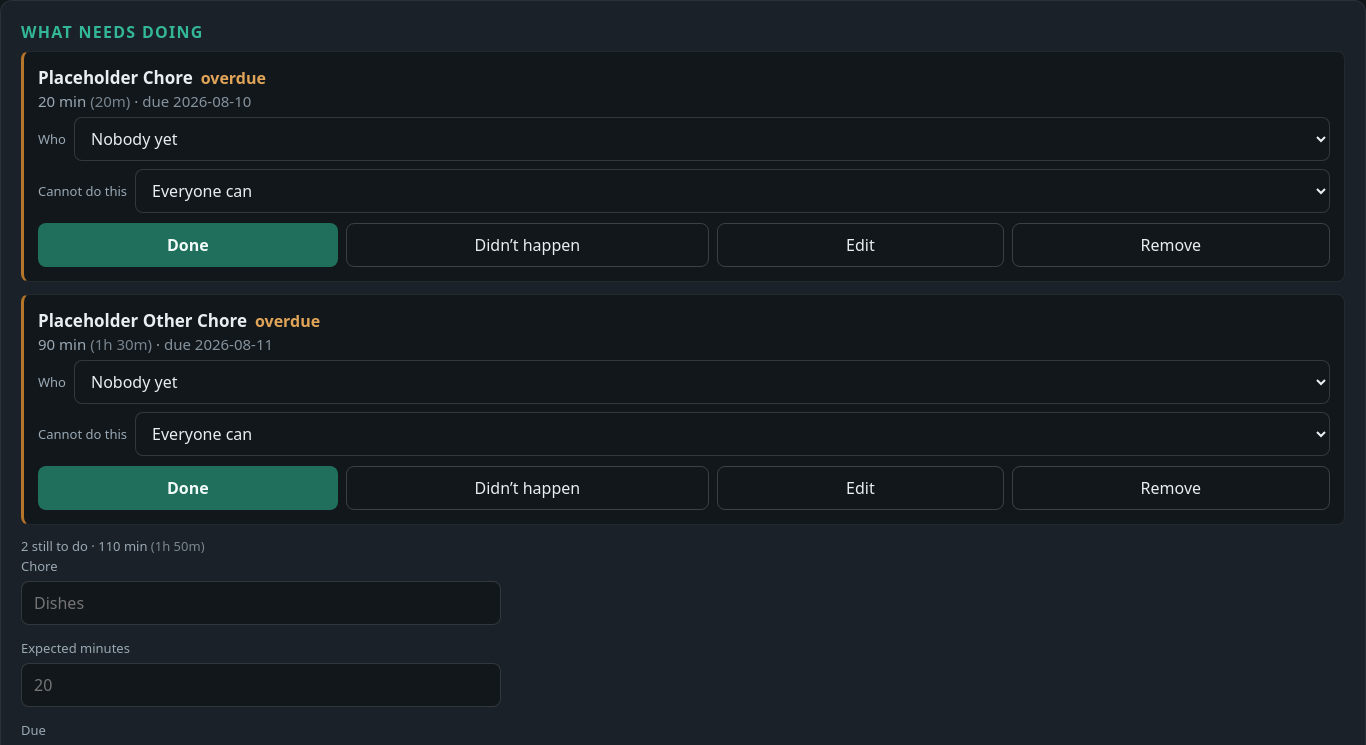
Test: AC 6 — editing and removing go through the handler › applies the same refusal in the editor as in the add form
The image size is (1366, 745).
Click the button with aria-label "edit placeholder chore".
click(860, 245)  # box [717,223,1004,267]
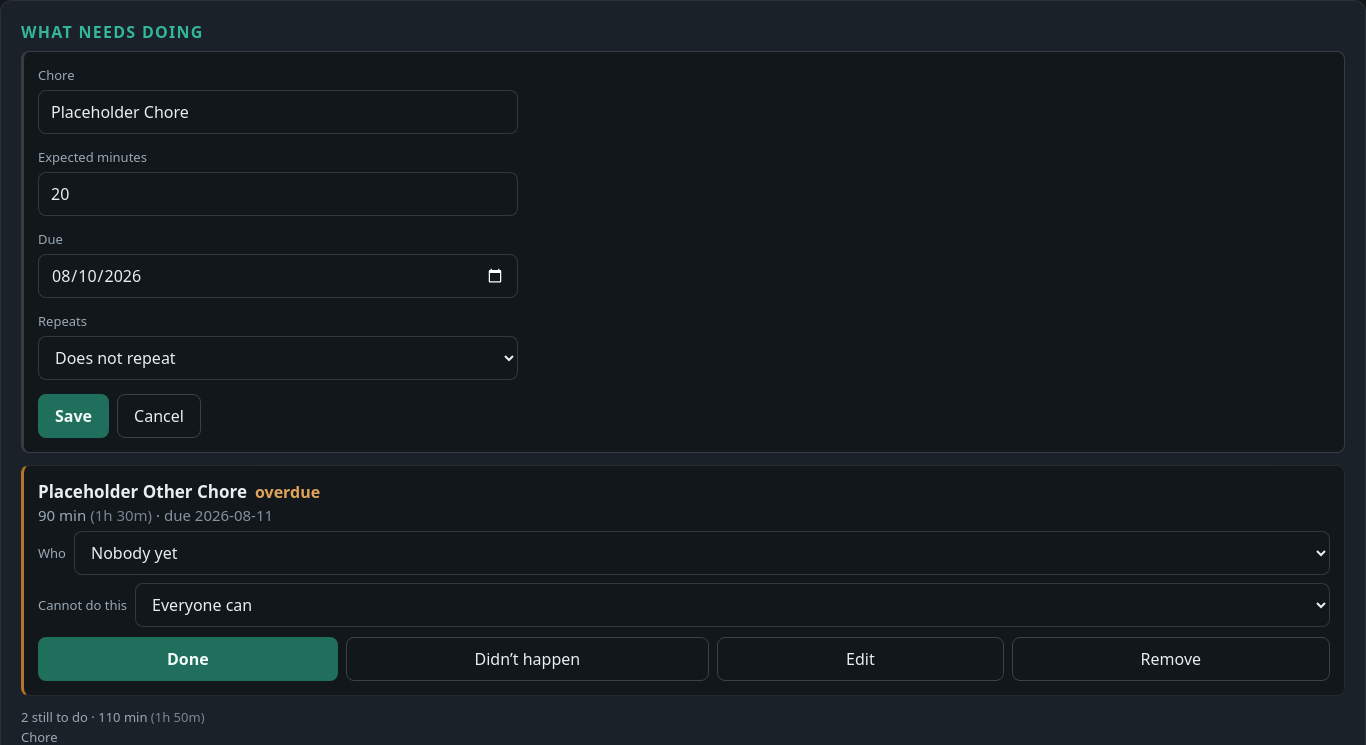
Replace the text in the number field named "expected minutes for placeholder chore" with "0" at (278, 194), box [38,172,518,216]
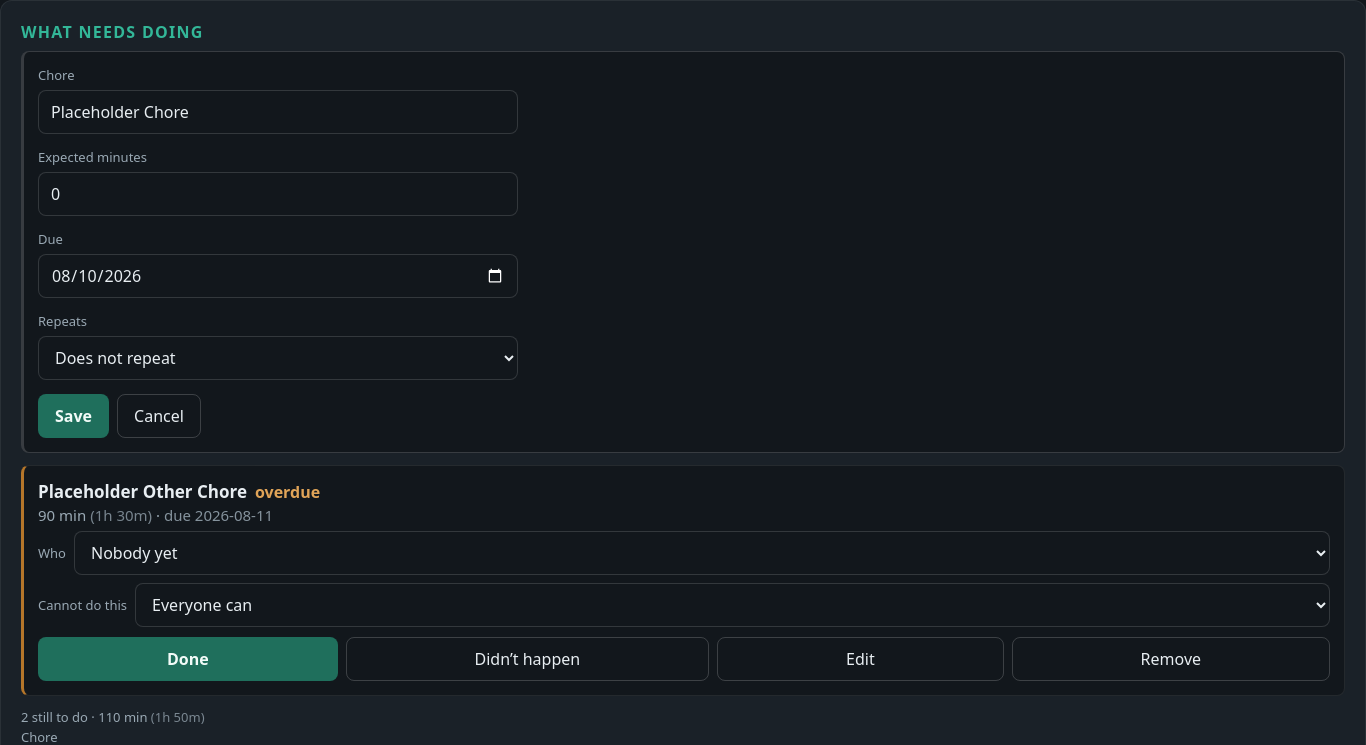
Click the button "Save".
click(74, 416)  # box [38,394,109,438]
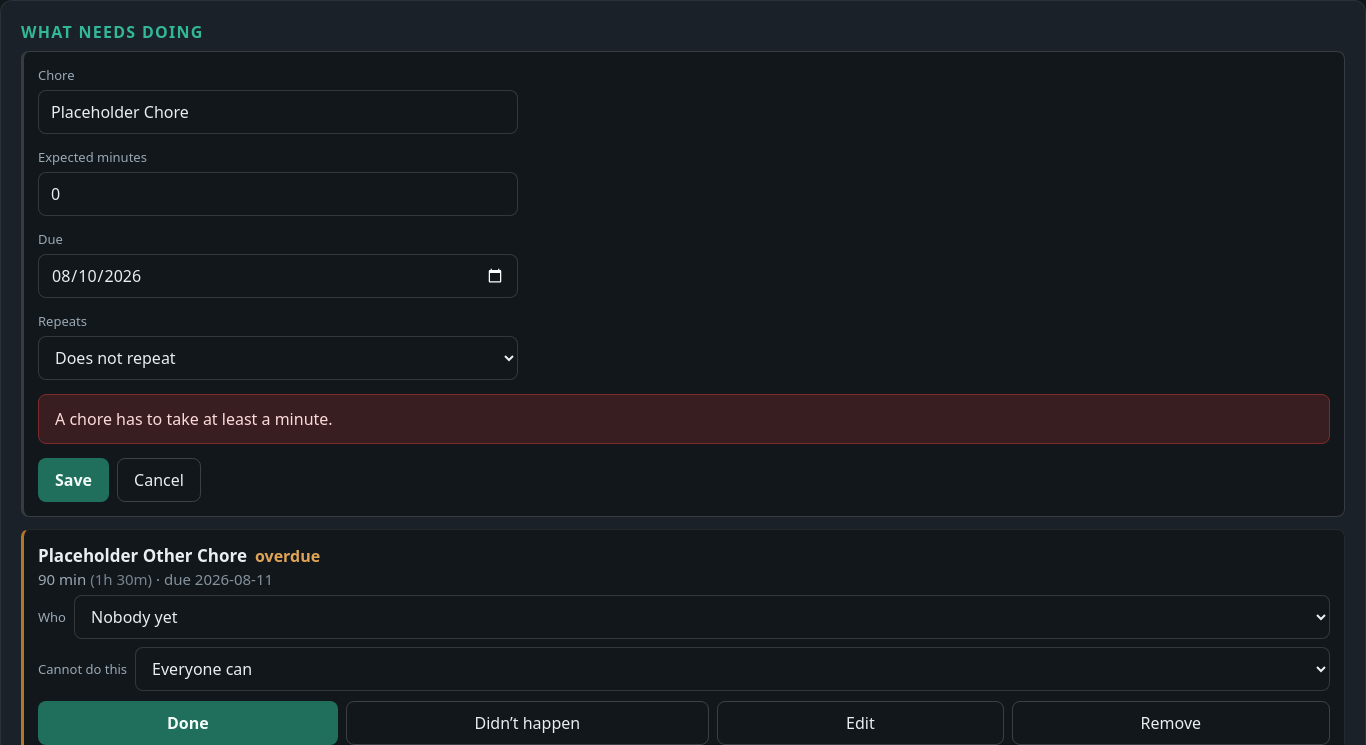
Check: the message shows "at least a minute", box [55,408,333,430]
